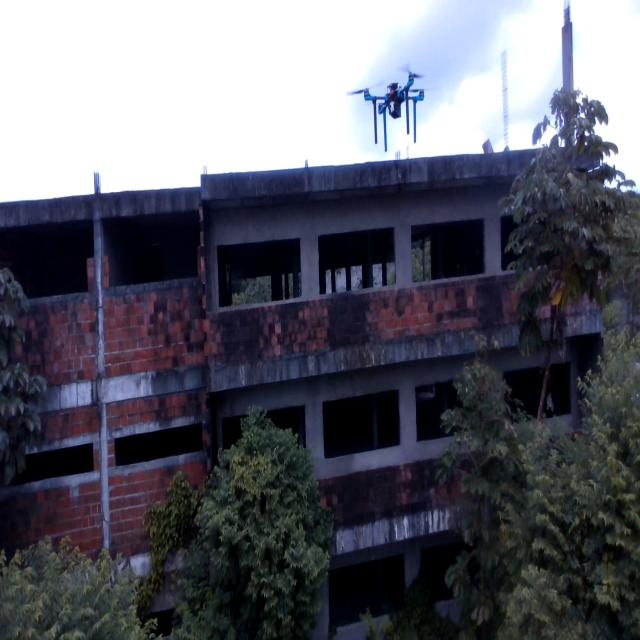-uav-: (338, 56, 459, 172)
